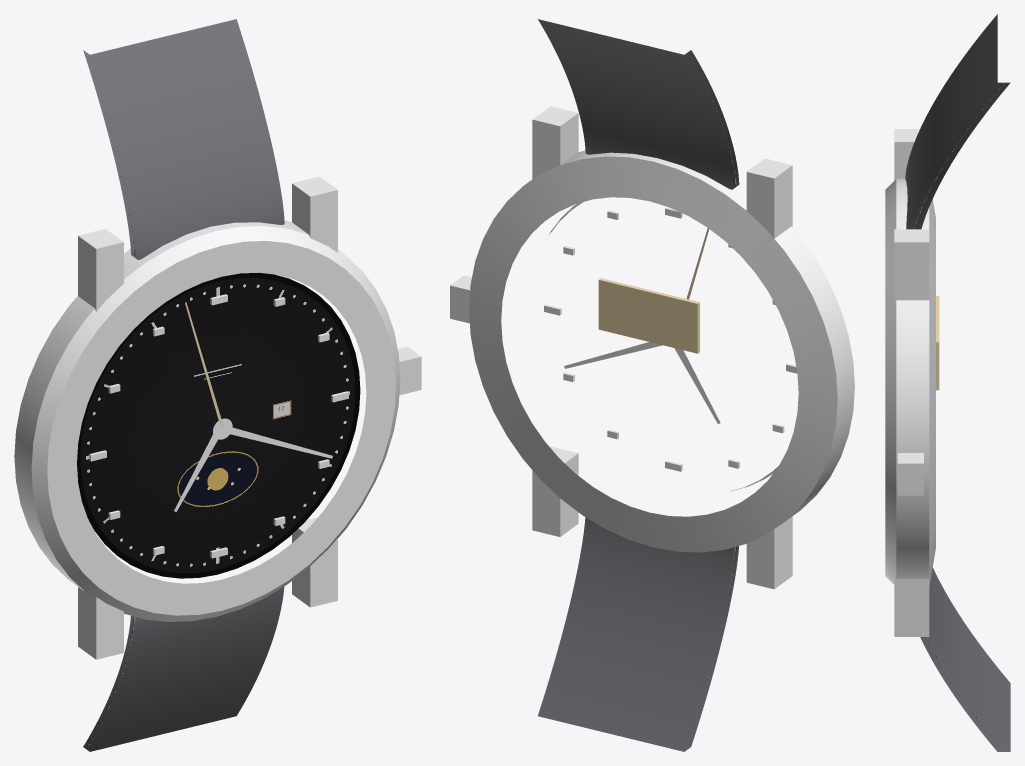
Rendered from vanta-17.glb.
3 renders of one model, left to right at view 1: azimuth 30°, elevation 25°; view 2: azimuth 150°, elevation 25°; view 3: azimuth 270°, elevation 25°, orthographic. The views are drawn at different scales.
Visible parts, largest first — view 1: WatchMesh; view 2: WatchMesh; view 3: WatchMesh.
Boxes of the visible parts, <box> form: WatchMesh: <box>14,19,421,751</box>; WatchMesh: <box>450,19,854,751</box>; WatchMesh: <box>885,14,1010,751</box>.
Bounding box in the file's own units: 1.97 × 3.36 × 0.58.
6 materials, 1 textured.
